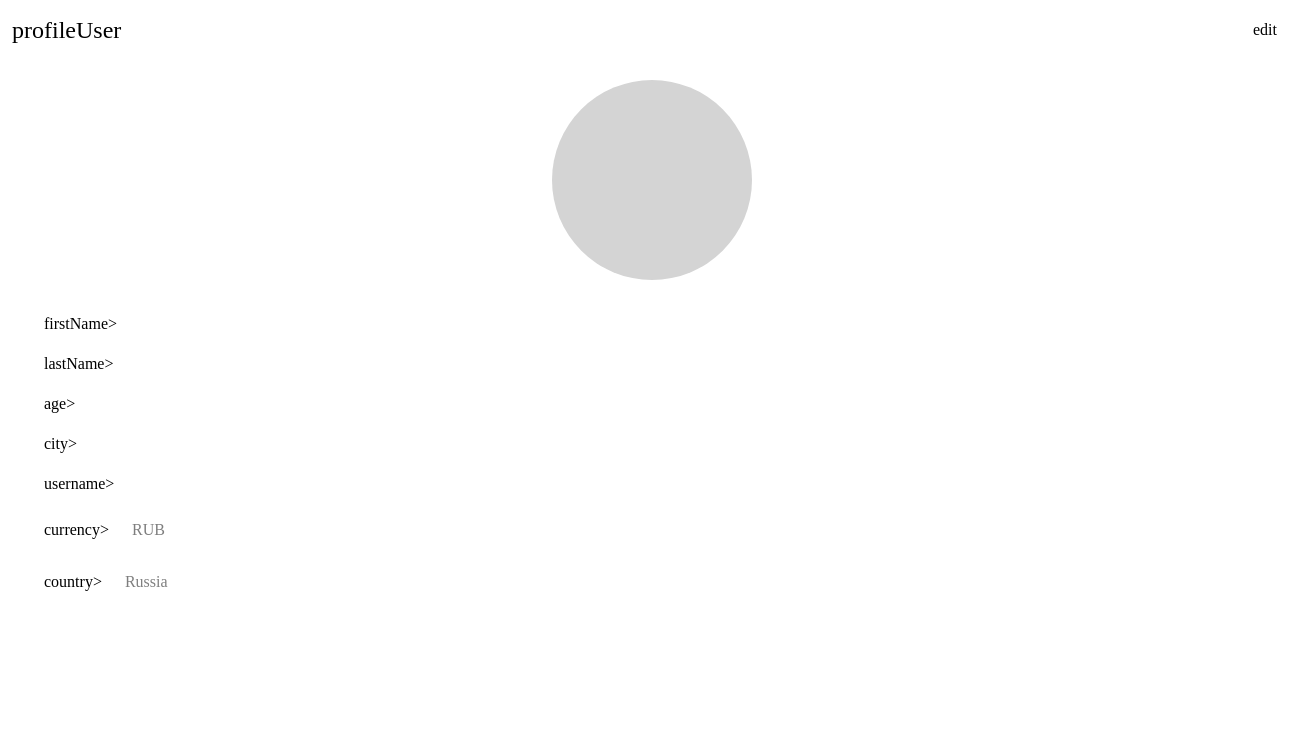
Test: test features/EditableProfileCard › An error should appear if the user entered incorrect values
Click the switch with test id "editable-profile-card-header-edit" at (1265, 30), box x1=1238 y1=12 x2=1292 y2=48
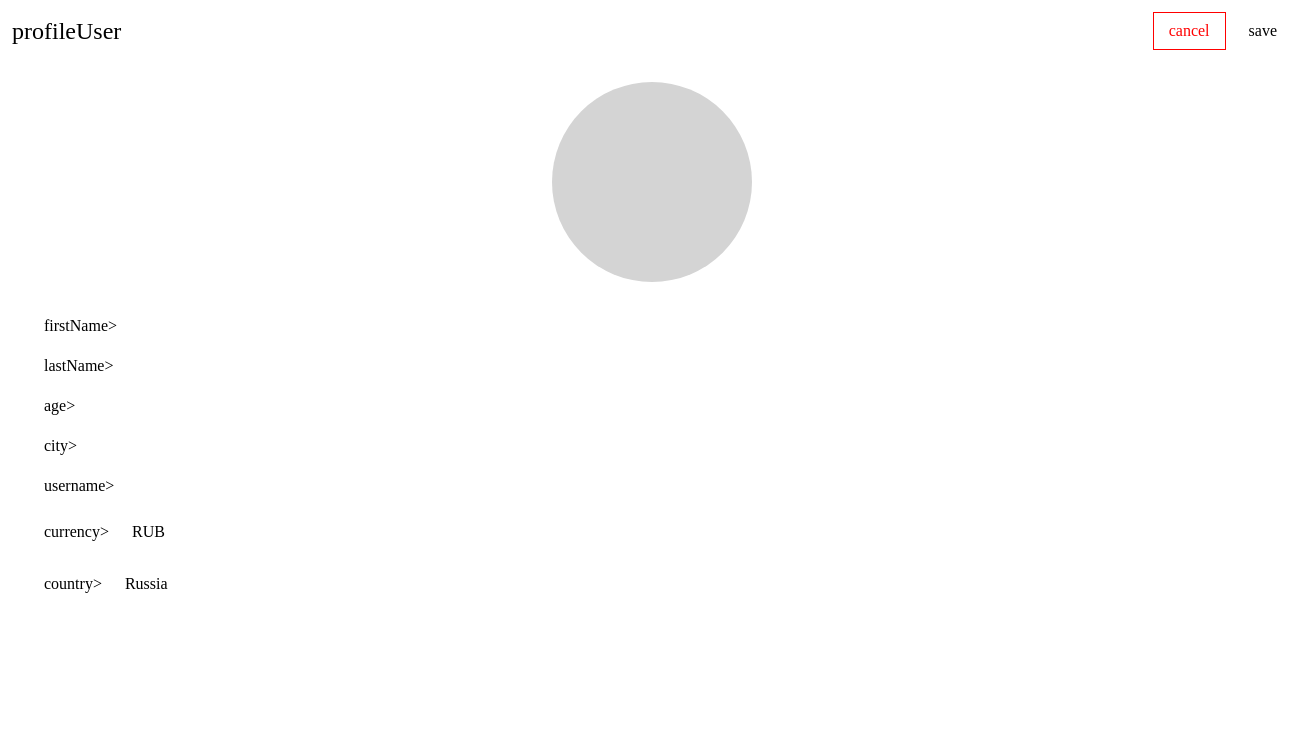
Click the button with test id "editable-profile-card-header-save" at (1263, 31), box x1=1234 y1=13 x2=1292 y2=49
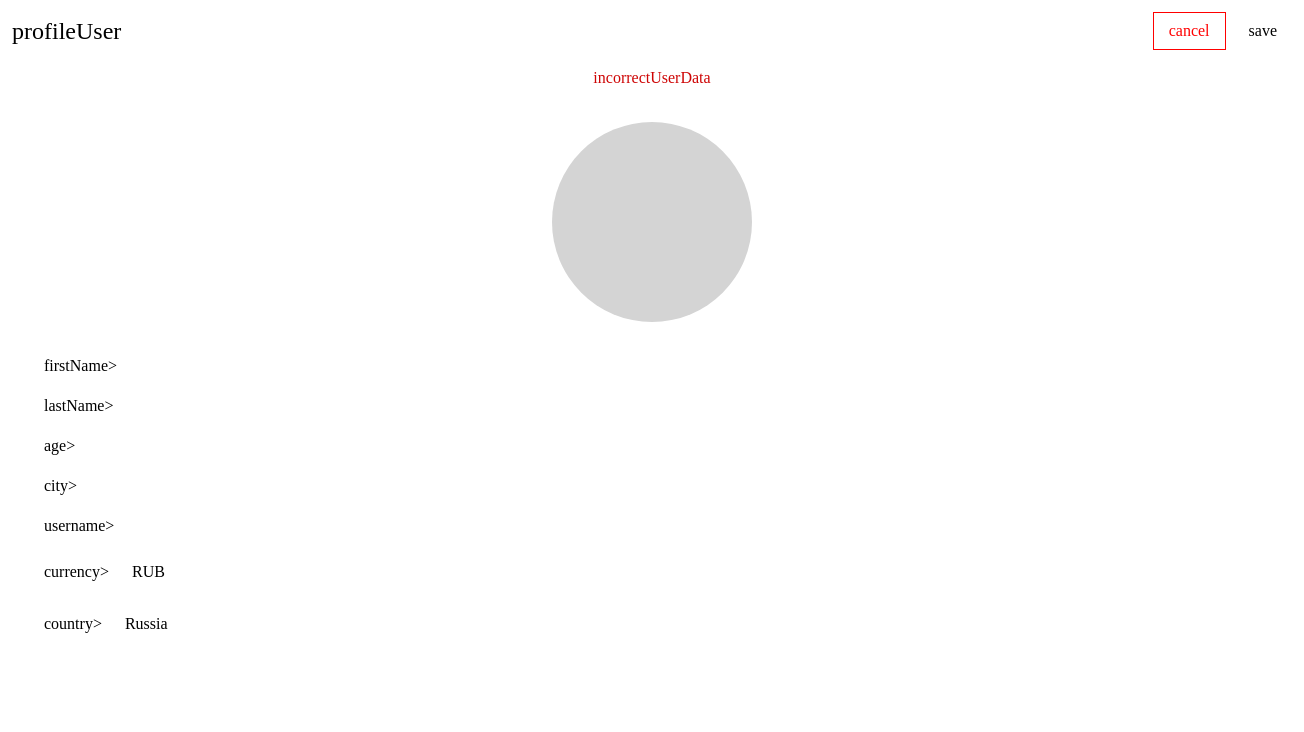
Result: the text "incorrectUserData" is shown at x1=593 y1=66 x2=711 y2=90
